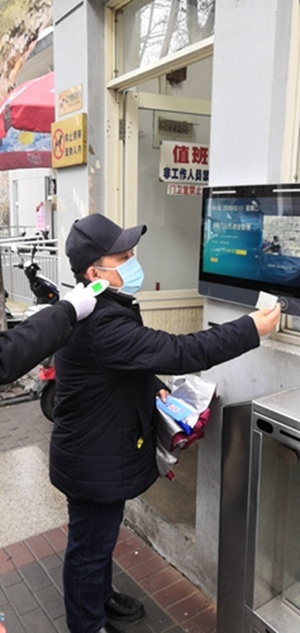correctlyWear: (86, 244, 146, 300)
